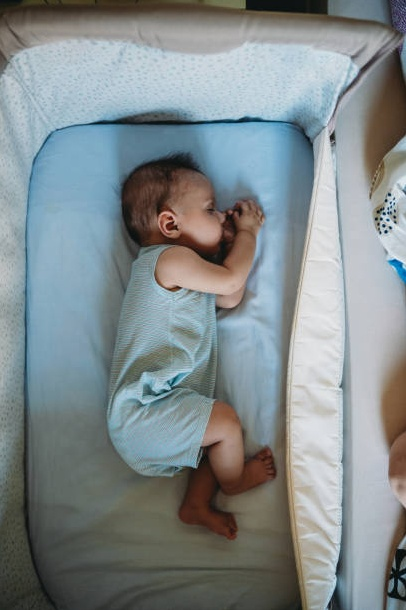baby: (108, 154, 275, 538)
crib: (0, 6, 399, 609)
